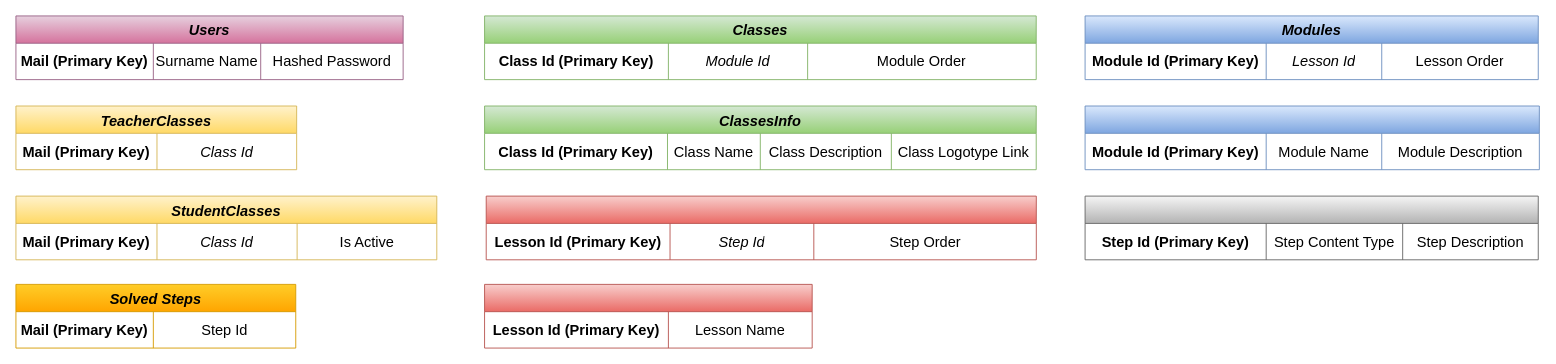
This 1556x364 diagram has some shape labels left out. The box of each missing label's shape, as (x1, y1, x2, y2) in pixels:
Lessons: (485, 195, 1036, 260)
LessonsInfo: (484, 283, 812, 348)
ModulesInfo: (1084, 105, 1539, 170)
Steps: (1084, 195, 1538, 260)
